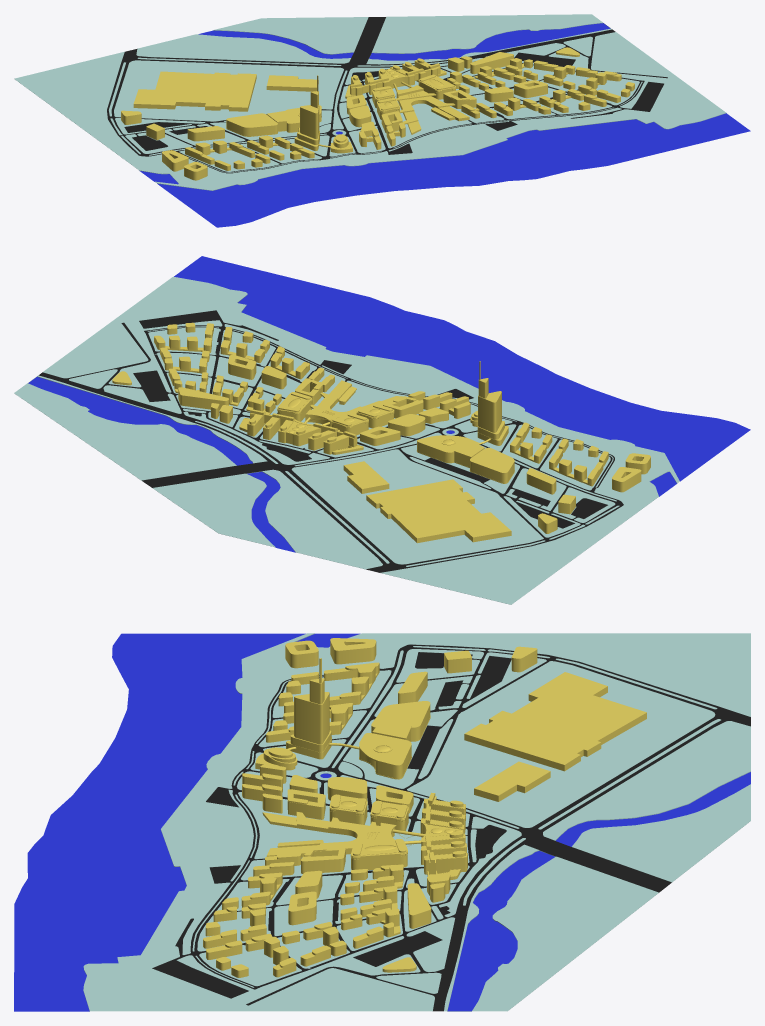
The model's file is Unity-park.glb.
The picture shows the model from 3 angles, top to bottom: view 1: azimuth 30°, elevation 25°; view 2: azimuth 150°, elevation 25°; view 3: azimuth 270°, elevation 25°; orthographic projection. The views are drawn at different scales.
Visible parts, largest first — view 1: Town_low, Town.022_low, Town.057_low, Town.062_low, Town.055_low, Town.046_low, Town.064_low, Town.063_low, Town.058_low, Town.007_low, Town.020_low, Town.037_low (+12 smaller); view 2: Town_low, Town.022_low, Town.057_low, Town.055_low, Town.058_low, Town.062_low, Town.064_low, Town.063_low, Town.046_low, Town.020_low, Town.007_low, Town.037_low (+6 smaller); view 3: Town_low, Town.022_low, Town.057_low, Town.055_low, Town.062_low, Town.064_low, Town.063_low, Town.007_low, Town.046_low, Town.058_low, Town.017_low, Town.037_low (+19 smaller).
Boxes of the visible parts, x1,y1,x2,y2 form: Town_low: (14,14,750,227); Town.022_low: (133,71,256,111); Town.057_low: (226,105,321,136); Town.062_low: (396,85,469,134); Town.055_low: (294,75,319,150); Town.046_low: (185,140,254,164); Town.064_low: (390,58,446,85); Town.063_low: (266,75,318,91); Town.058_low: (345,68,389,98); Town.007_low: (418,74,456,99); Town.020_low: (470,52,513,74); Town.037_low: (578,71,621,95); Town_low: (14,256,750,604); Town.022_low: (366,479,511,543); Town.057_low: (416,435,514,483); Town.055_low: (477,361,508,445); Town.058_low: (292,423,363,454); Town.062_low: (305,380,402,426); Town.064_low: (239,409,294,443); Town.063_low: (343,461,389,493); Town.046_low: (549,448,603,486); Town.020_low: (178,387,228,410); Town.007_low: (277,392,312,421); Town.037_low: (154,335,211,352); Town_low: (14,633,750,1011); Town.022_low: (464,672,646,771); Town.057_low: (359,701,430,779); Town.055_low: (286,658,331,759); Town.062_low: (262,812,396,857); Town.064_low: (421,831,467,879); Town.063_low: (474,761,550,801); Town.007_low: (350,839,407,870); Town.046_low: (324,662,379,705); Town.058_low: (420,792,465,837); Town.017_low: (330,638,376,664); Town.037_low: (245,933,296,977).
Size of the model in its own units: 77.04 by 9.53 by 63.48.
